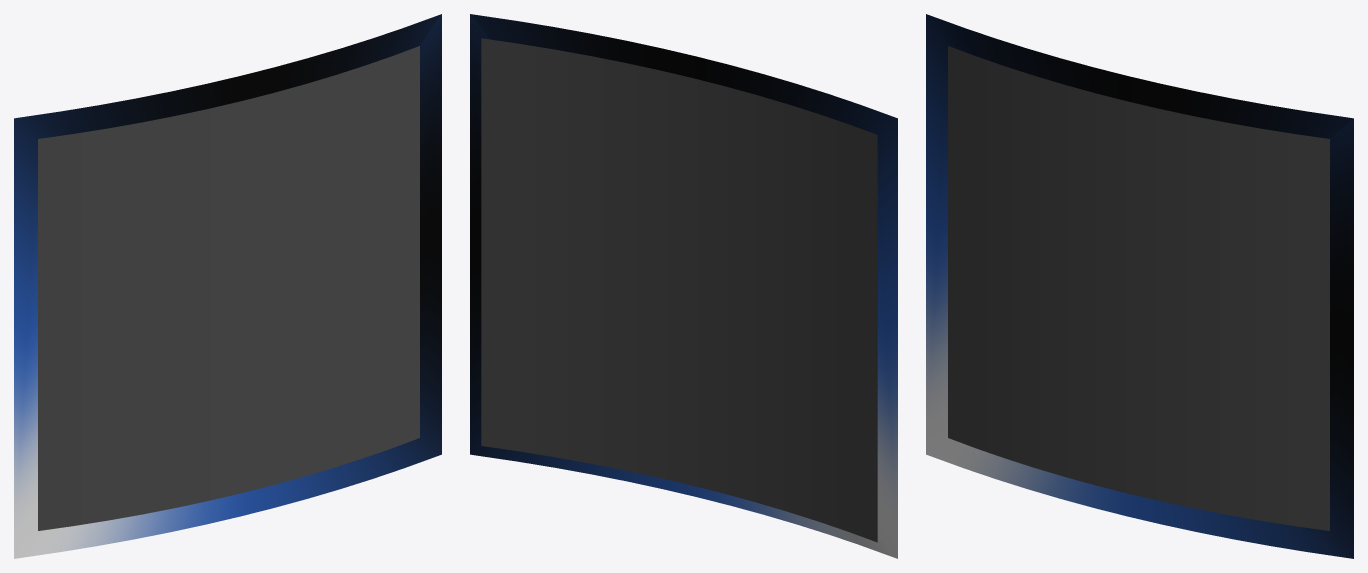
File: ___advertisement_12x9.fbx
The picture shows the model from 3 angles, left to right: view 1: azimuth 30°, elevation 25°; view 2: azimuth 150°, elevation 25°; view 3: azimuth 330°, elevation 25°; orthographic projection.
Parts seen in each view (by area): view 1: ___advertisement_12x9, ___glow; view 2: ___advertisement_12x9, ___glow; view 3: ___advertisement_12x9, ___glow.
Part boxes in pixels (box(x1,y1,x2,y2)): ___advertisement_12x9: box(38, 46, 419, 530); ___glow: box(14, 14, 441, 558); ___advertisement_12x9: box(481, 38, 877, 542); ___glow: box(470, 14, 897, 558); ___advertisement_12x9: box(948, 46, 1329, 530); ___glow: box(926, 14, 1353, 558).
Size of the model in its own units: 22.44 by 22.08 by 1.59.
